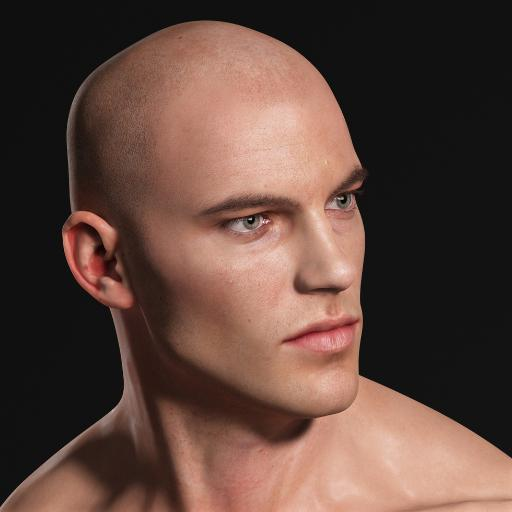left_eye: (327, 192, 359, 214)
left_lip_corner: (347, 315, 363, 333)
right_eye: (214, 209, 282, 237)
right_lip_corner: (276, 334, 297, 352)
